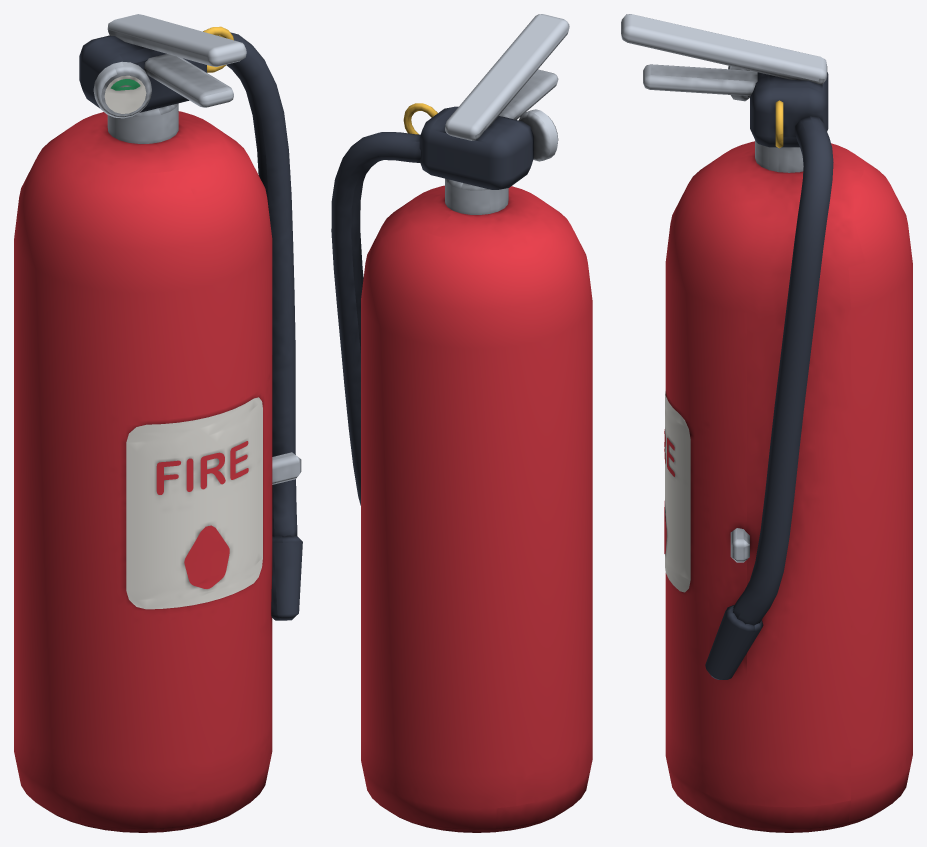
File: fire_extinguisher.glb
3 views of the same model, side by side, from view 1: azimuth 30°, elevation 25°; view 2: azimuth 150°, elevation 25°; view 3: azimuth 270°, elevation 25° (orthographic). The views are drawn at different scales.
Visible parts, largest first — view 1: fire_extinguisher; view 2: fire_extinguisher; view 3: fire_extinguisher.
Part boxes in pixels (x1=…): fire_extinguisher: x1=14, y1=14, x2=302, y2=832; fire_extinguisher: x1=331, y1=14, x2=592, y2=832; fire_extinguisher: x1=621, y1=14, x2=912, y2=832.
Bounding box in the file's own units: 0.1792 × 0.5203 × 0.1793.
7 materials, 7 textured.
